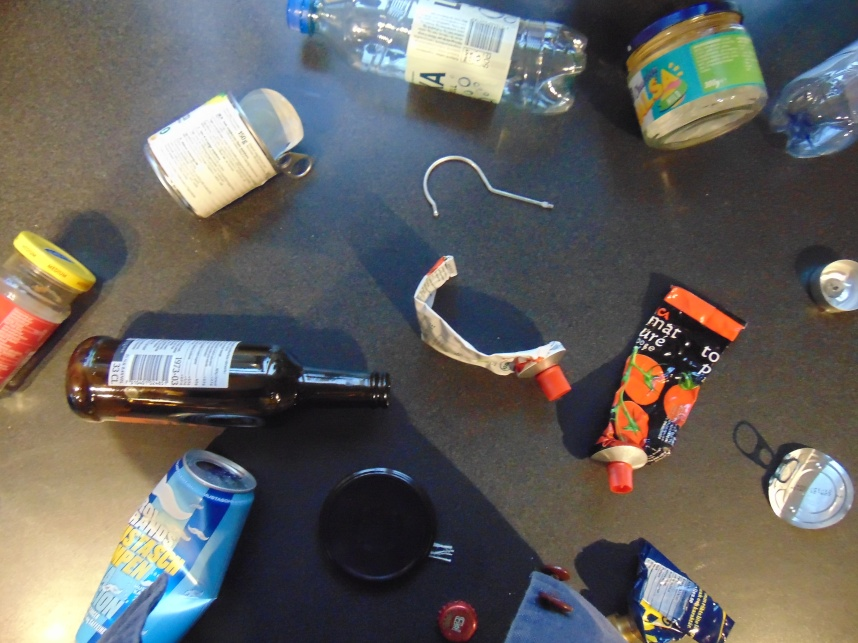glass_bottle: (281, 1, 587, 121), (67, 336, 392, 430), (624, 5, 769, 152), (2, 230, 91, 398), (770, 42, 858, 158)
metal: (600, 279, 747, 476), (319, 466, 434, 591), (612, 538, 738, 643), (421, 153, 554, 220), (765, 445, 856, 532), (240, 84, 316, 177), (809, 259, 858, 314), (436, 600, 478, 639)
metal_can: (73, 449, 262, 643), (142, 91, 281, 219)
